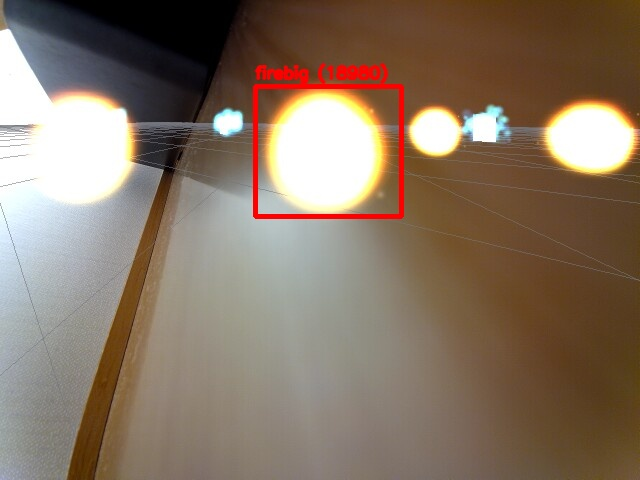firebig: (255, 86, 401, 216)
